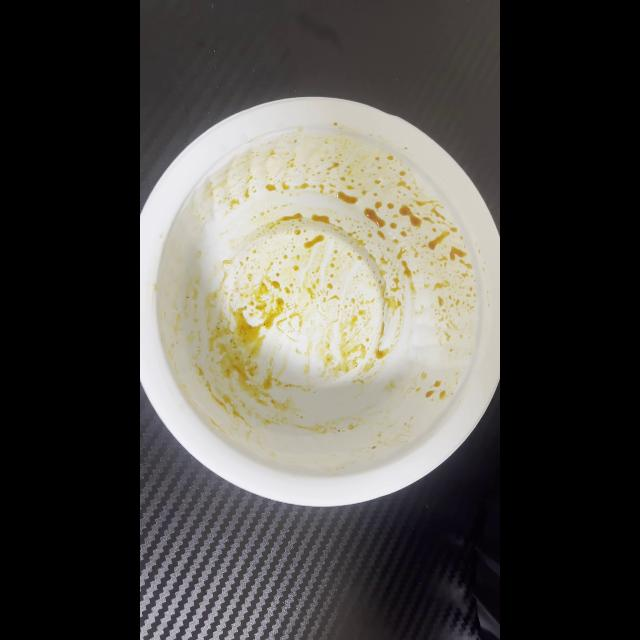dirty: (140, 98, 496, 500)
